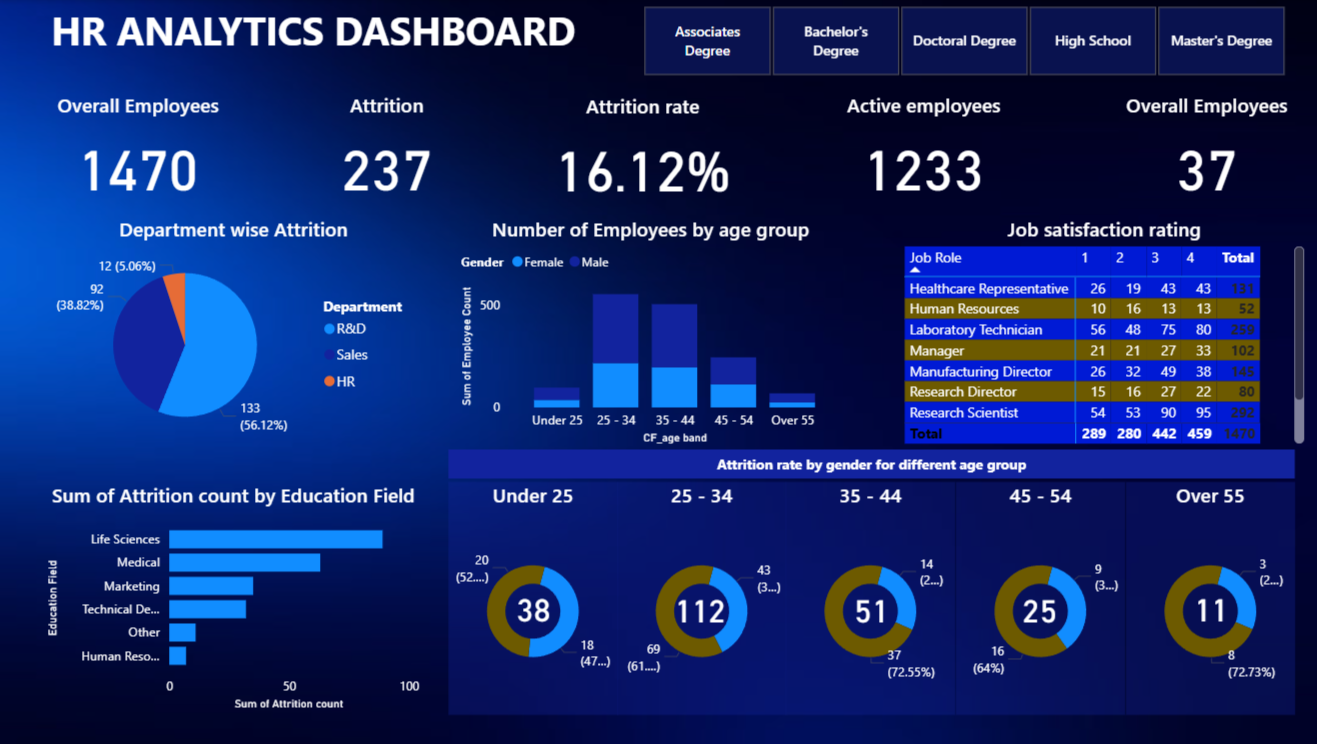

This screenshot's page, from the dashboard's own definition file:
{"tool":"powerbi","page":{"name":"Page 1","canvas":[1280,720],"ordinal":0},"visuals":[{"type":"card","title":"Overall Employees","fields":{"Values":["Sum(HR data.Employee Count)"]},"box":[43.9,89.2,185.2,113.9],"z":0},{"type":"card","title":"Attrition","fields":{"Values":["Sum(HR data.Attrition count)"]},"box":[289.5,89.2,172.9,113.9],"z":1000},{"type":"card","title":"Attrition rate","fields":{"Values":["HR data.Attrition rate"]},"box":[518.7,90.6,208.6,113.9],"z":2000},{"type":"card","title":"Active employees","fields":{"Values":["HR data.Active employees"]},"box":[802.7,89.2,183.9,113.9],"z":3000},{"type":"card","title":"Overall Employees","fields":{"Values":["Avg(HR data.Age)"]},"box":[1074.4,89.2,185.2,113.9],"z":4000},{"type":"pieChart","title":"Department wise Attrition","fields":{"Category":["HR data.Department"],"Y":["Sum(HR data.Attrition count)"]},"box":[43.9,208.6,369.1,225],"z":5000},{"type":"columnChart","title":"Number of Employees by age group","fields":{"Category":["HR data.CF_age band"],"Y":["Sum(HR data.Employee Count)"],"Series":["HR data.Gender"]},"box":[443.2,208.6,376,225],"z":6000},{"type":"pivotTable","title":"Job satisfaction rating","fields":{"Rows":["HR data.Job Role"],"Columns":["HR data.Job Satisfaction"],"Values":["Sum(HR data.Employee Count)"]},"box":[871.4,208.6,395.2,225],"z":7000},{"type":"barChart","fields":{"Category":["HR data.Education Field"],"Y":["Sum(HR data.Attrition count)"]},"box":[43.9,465.2,369.1,225],"z":8000},{"type":"donutChart","title":"Under 25","fields":{"Category":["HR data.Gender"],"Y":["Sum(HR data.Attrition count)"],"Series":["HR data.CF_age band"]},"box":[435,465.2,163.3,225],"z":9000},{"type":"donutChart","title":"25 - 34","fields":{"Category":["HR data.Gender"],"Y":["Sum(HR data.Attrition count)"],"Series":["HR data.CF_age band"]},"box":[598.3,465.2,163.3,225],"z":10000},{"type":"donutChart","title":"35 - 44","fields":{"Category":["HR data.Gender"],"Y":["Sum(HR data.Attrition count)"],"Series":["HR data.CF_age band"]},"box":[761.6,465.2,163.3,225],"z":11000},{"type":"textbox","box":[435.5,434.3,816.8,27.7],"z":12000},{"type":"donutChart","title":"Over 55","fields":{"Category":["HR data.Gender"],"Y":["Sum(HR data.Attrition count)"],"Series":["HR data.CF_age band"]},"box":[1089.5,465.2,163.3,225],"z":13000},{"type":"donutChart","title":"45 - 54","fields":{"Category":["HR data.Gender"],"Y":["Sum(HR data.Attrition count)"],"Series":["HR data.CF_age band"]},"box":[924.9,465.2,163.3,225],"z":14000},{"type":"card","fields":{"Values":["Sum(HR data.Attrition count)"]},"box":[472,547.5,91.9,79.6],"z":15000},{"type":"card","fields":{"Values":["Sum(HR data.Attrition count)"]},"box":[960.6,548.9,91.9,79.6],"z":16000},{"type":"card","fields":{"Values":["Sum(HR data.Attrition count)"]},"box":[631.2,548.9,94.7,79.6],"z":17000},{"type":"card","fields":{"Values":["Sum(HR data.Attrition count)"]},"box":[797.3,548.9,91.9,79.6],"z":18000},{"type":"card","fields":{"Values":["Sum(HR data.Attrition count)"]},"box":[1125.2,547.5,91.9,79.6],"z":19000},{"type":"textbox","box":[46.7,0,542,79.6],"z":20000},{"type":"slicer","fields":{"Values":["HR data.Education"]},"box":[598.3,0,668.3,79.6],"z":21000}]}

Visuals, with their boxes in screenshot pixels (x1, y1, x2, y2), scaled from the page's 1280x720 canvas onto the 1317x744 screenshot:
"Overall Employees" card: x1=45, y1=92, x2=236, y2=210
"Attrition" card: x1=298, y1=92, x2=476, y2=210
"Attrition rate" card: x1=534, y1=94, x2=748, y2=211
"Active employees" card: x1=826, y1=92, x2=1015, y2=210
"Overall Employees" card: x1=1105, y1=92, x2=1296, y2=210
"Department wise Attrition" pieChart: x1=45, y1=216, x2=425, y2=448
"Number of Employees by age group" columnChart: x1=456, y1=216, x2=843, y2=448
"Job satisfaction rating" pivotTable: x1=897, y1=216, x2=1303, y2=448
barChart - HR data.Education Field x Sum(HR data.Attrition count): x1=45, y1=481, x2=425, y2=713
"Under 25" donutChart: x1=448, y1=481, x2=616, y2=713
"25 - 34" donutChart: x1=616, y1=481, x2=784, y2=713
"35 - 44" donutChart: x1=784, y1=481, x2=952, y2=713
textbox: x1=448, y1=449, x2=1288, y2=477
"Over 55" donutChart: x1=1121, y1=481, x2=1289, y2=713
"45 - 54" donutChart: x1=952, y1=481, x2=1120, y2=713
card - Sum(HR data.Attrition count): x1=486, y1=566, x2=580, y2=648
card - Sum(HR data.Attrition count): x1=988, y1=567, x2=1083, y2=649
card - Sum(HR data.Attrition count): x1=649, y1=567, x2=747, y2=649
card - Sum(HR data.Attrition count): x1=820, y1=567, x2=915, y2=649
card - Sum(HR data.Attrition count): x1=1158, y1=566, x2=1252, y2=648
textbox: x1=48, y1=0, x2=606, y2=82
slicer - HR data.Education: x1=616, y1=0, x2=1303, y2=82
